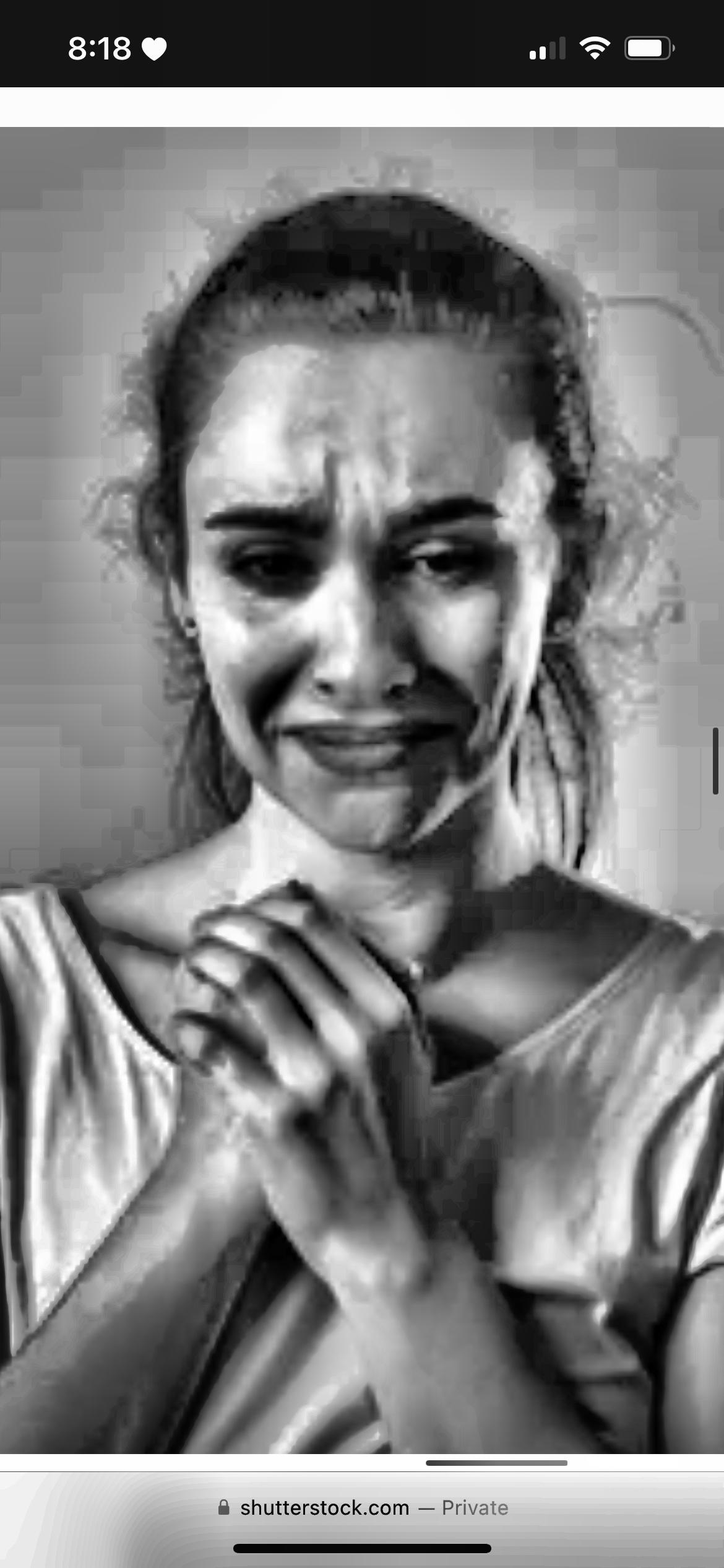sad: (209, 355, 530, 848)
